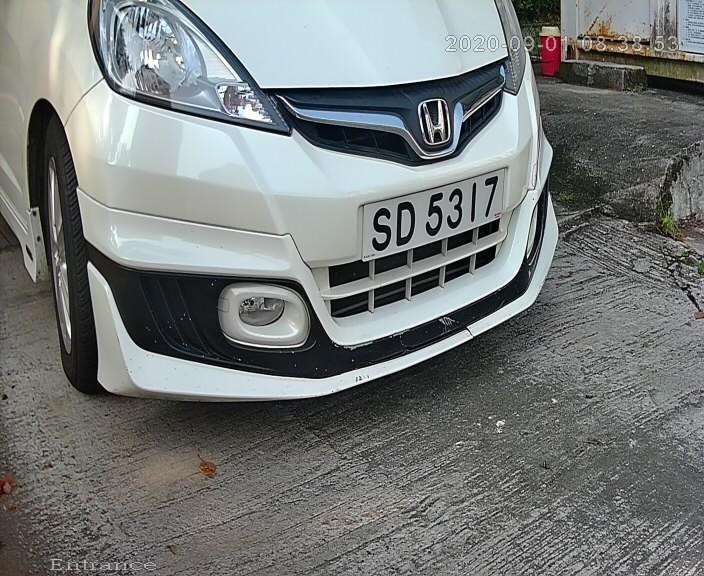License Plate: (353, 170, 507, 271)
